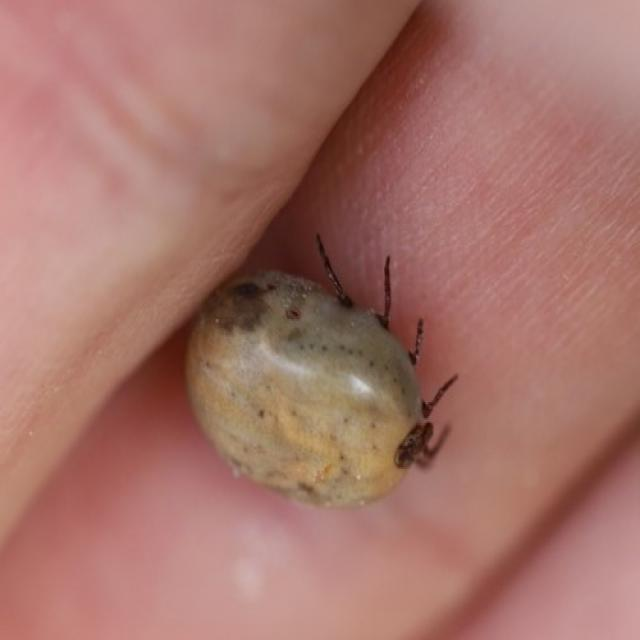Dermacentor Reticulatus-F-Fed: (184, 233, 458, 508)
